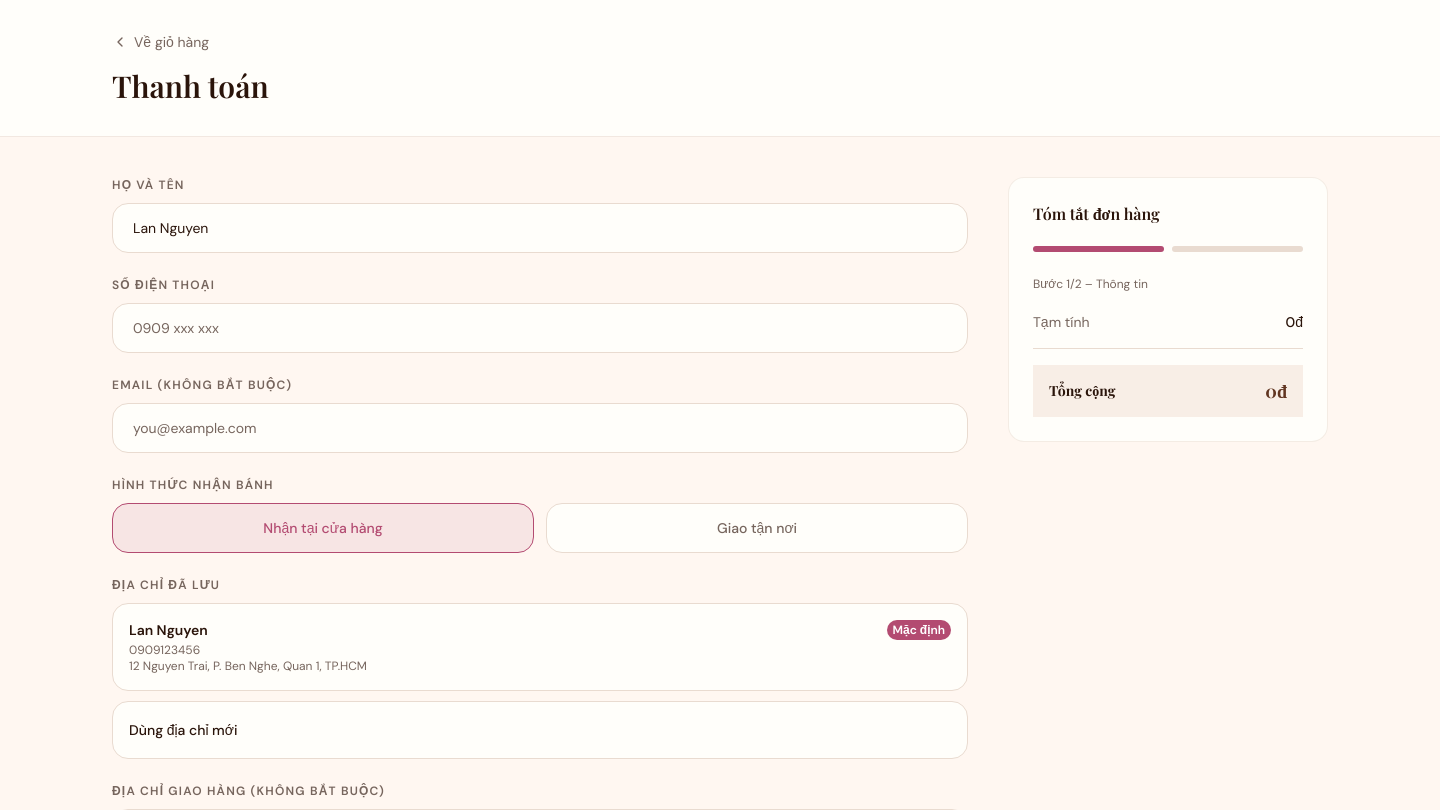
Test: Checkout saved address picker › renders saved address as a selectable card and fills contact fields on click
Expected: the text "0909123456" is shown, [129,642,200,658]
Expected: the text "Mặc định" is shown, [887,620,951,640]
Click the radio button labelled "Lan Nguyen".
click(168, 630)  # box [112,603,968,691]
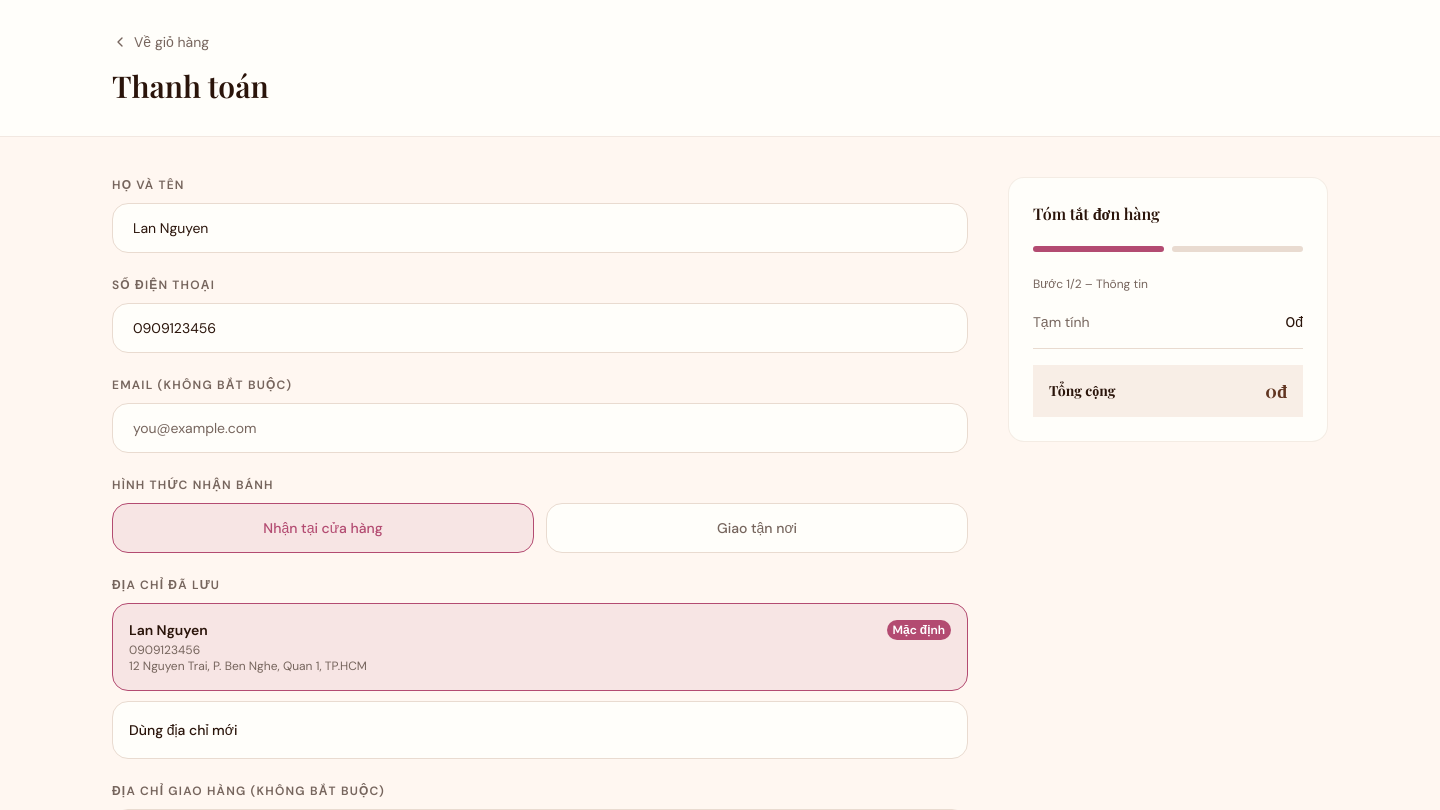
Expected: the field with placeholder "Họ và tên của bạn" below "Họ và tên" holds "Lan Nguyen", [112,203,968,253]
Expected: the field with placeholder "0909 xxx xxx" below "Số điện thoại" holds "0909123456", [112,303,968,353]
